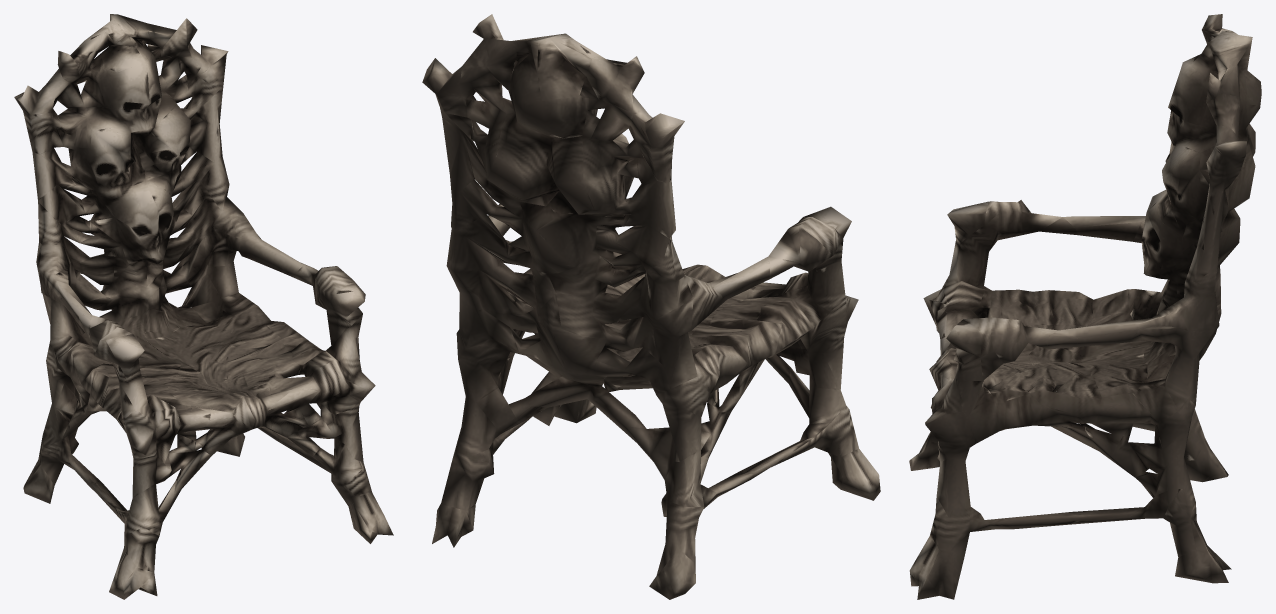
Rendered from ossuary_bone_throne.glb.
The picture shows the model from 3 angles, left to right: view 1: azimuth 30°, elevation 25°; view 2: azimuth 150°, elevation 25°; view 3: azimuth 270°, elevation 25°; orthographic projection. The views are drawn at different scales.
Bounding box in the file's own units: 1.3 × 1.99 × 1.29.
Materials: 1 (1 with a texture image).
